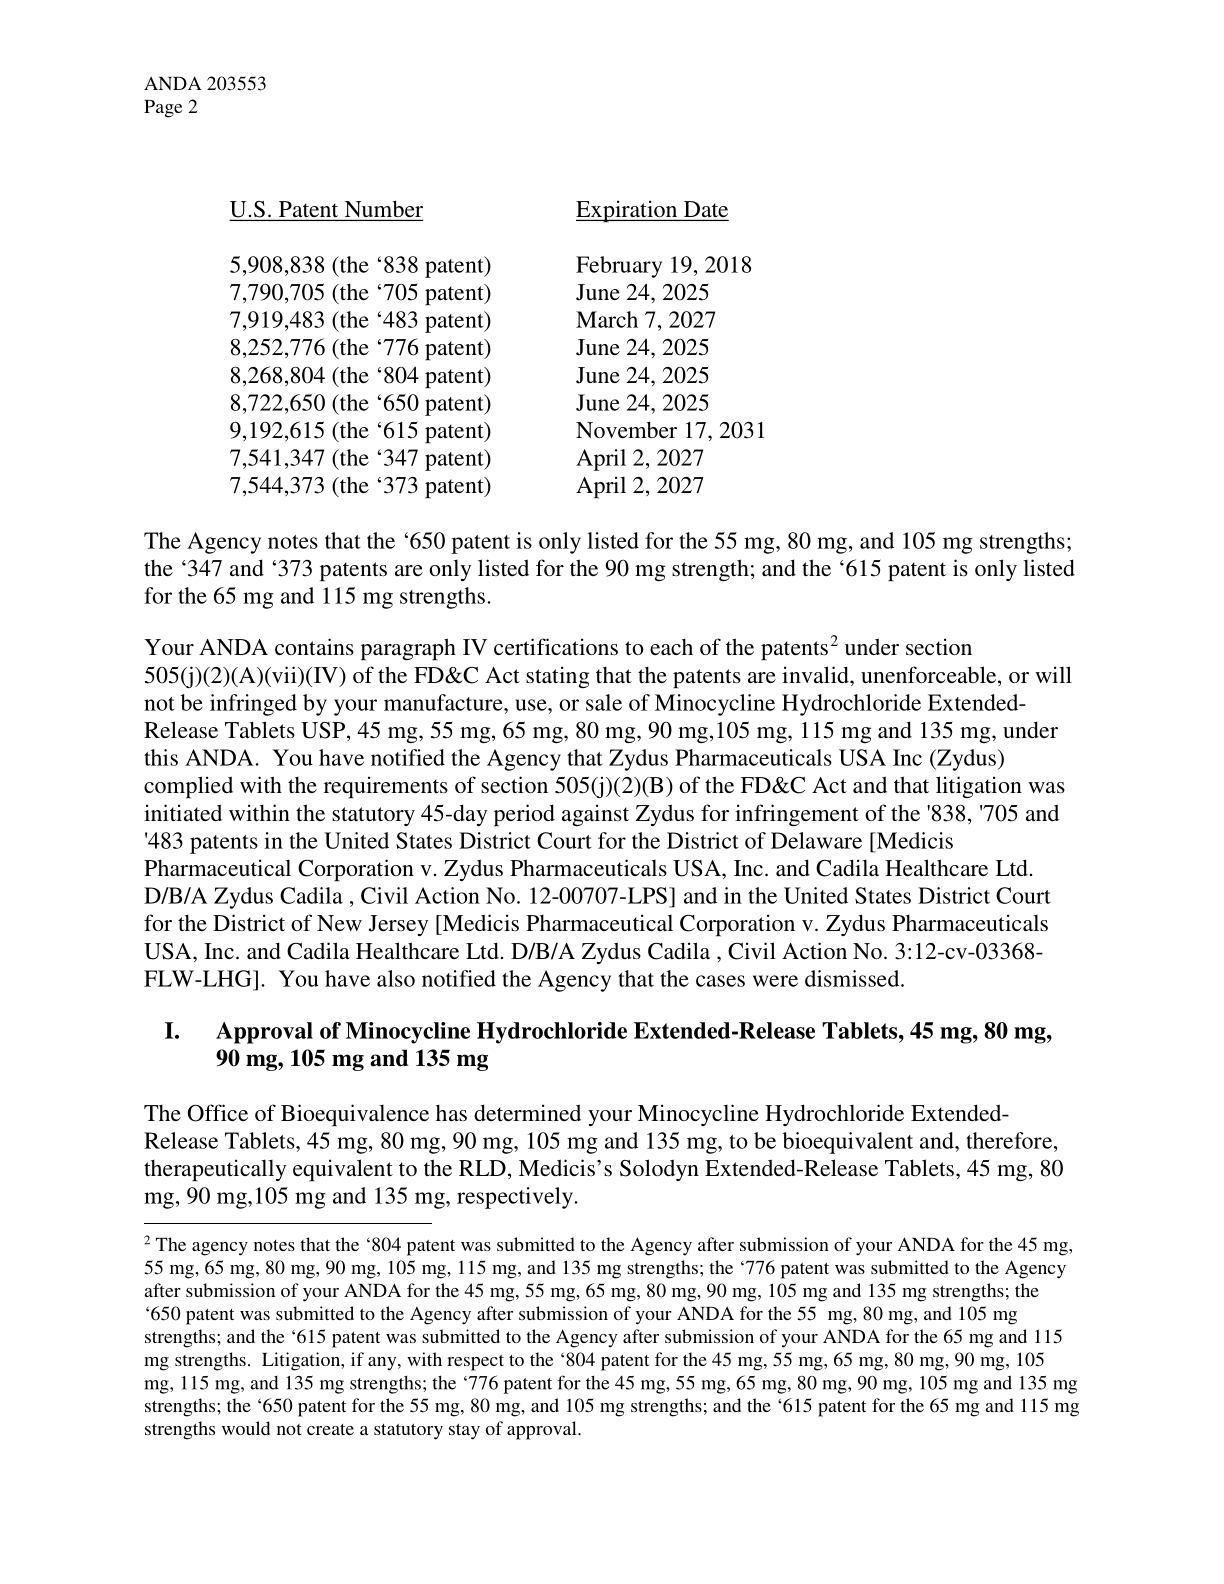nolines: (226, 195, 768, 498)
